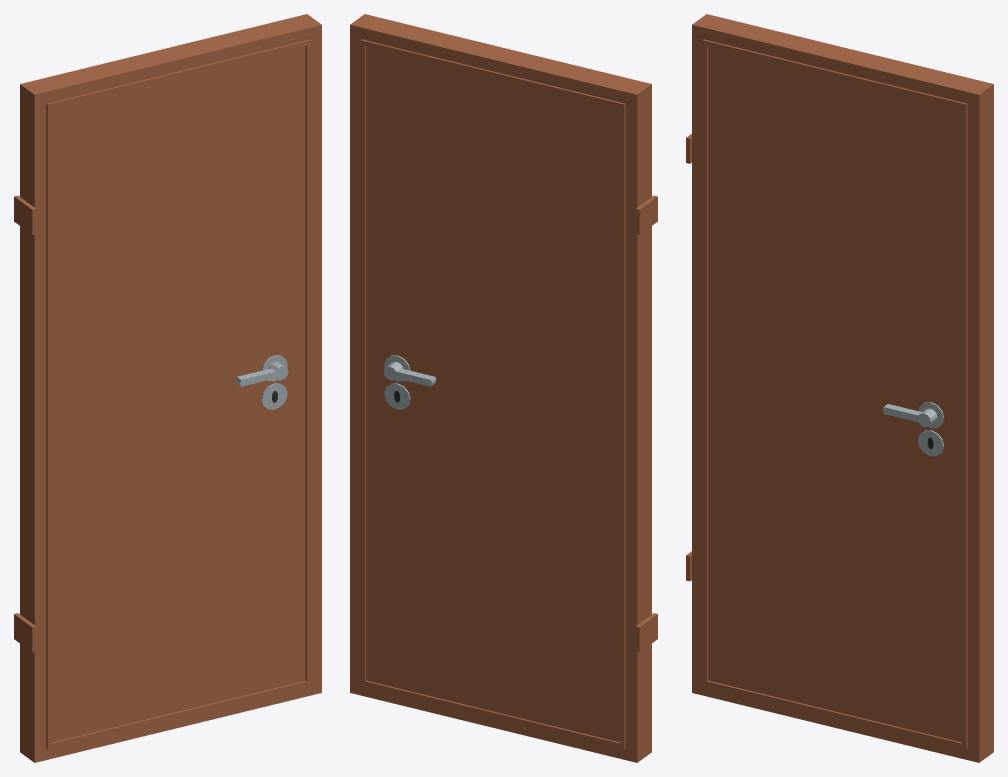
The model's file is Door.fbx.
The picture shows the model from 3 angles, left to right: view 1: azimuth 30°, elevation 25°; view 2: azimuth 150°, elevation 25°; view 3: azimuth 330°, elevation 25°; orthographic projection.
Parts seen in each view (by area): view 1: Door.002; view 2: Door.002; view 3: Door.002.
Boxes of the visible parts, left/top/right/bottom form: Door.002: left=14, top=14, right=321, bottom=762; Door.002: left=350, top=14, right=657, bottom=762; Door.002: left=686, top=14, right=993, bottom=762.
Bounding box in the file's own units: 0.9127 × 2 × 0.1605.
